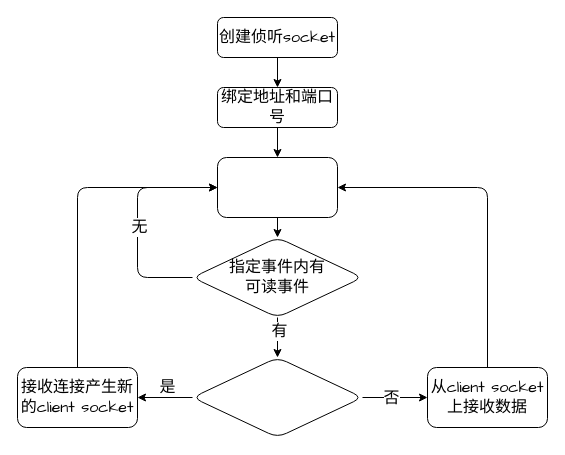
This 565x455 diagram has some shape labels left out. The box of each missing label's shape, as (x1, y1, x2, y2) in pixels:
可读事件的对象是 侦听socket: (192, 356, 362, 438)
将socket加入到待检测的可读事件集合中: (216, 156, 338, 218)
